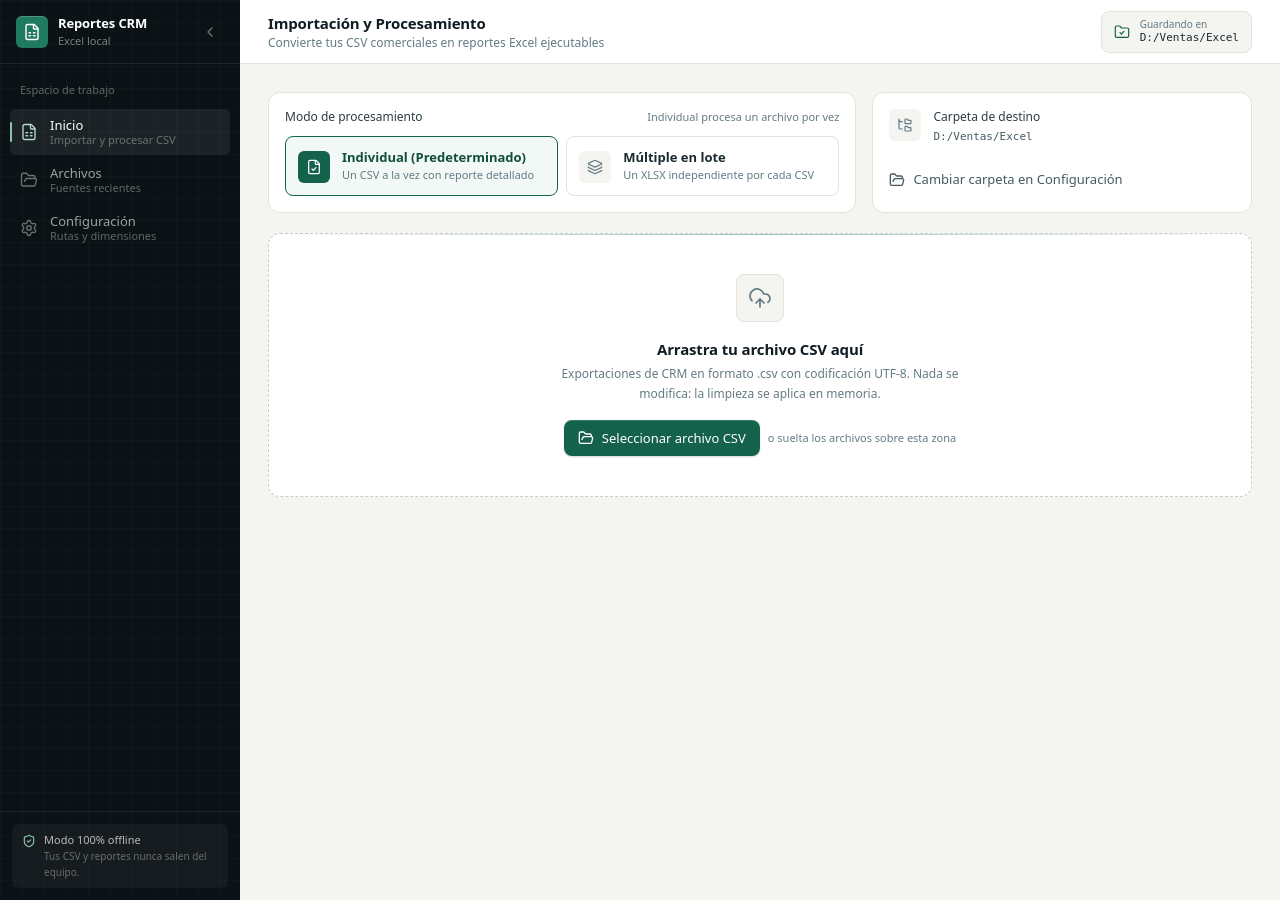
Test: App Flow & Persistence › allows navigating between sections and updating folder in settings
Expected: the heading "Importación y Procesamiento" is shown, [268,13,486,33]
// Navigate to Configuración via sidebar
Click the button "Configuración Rutas y dimensiones" at point(120, 228), box [10,204,230,250]
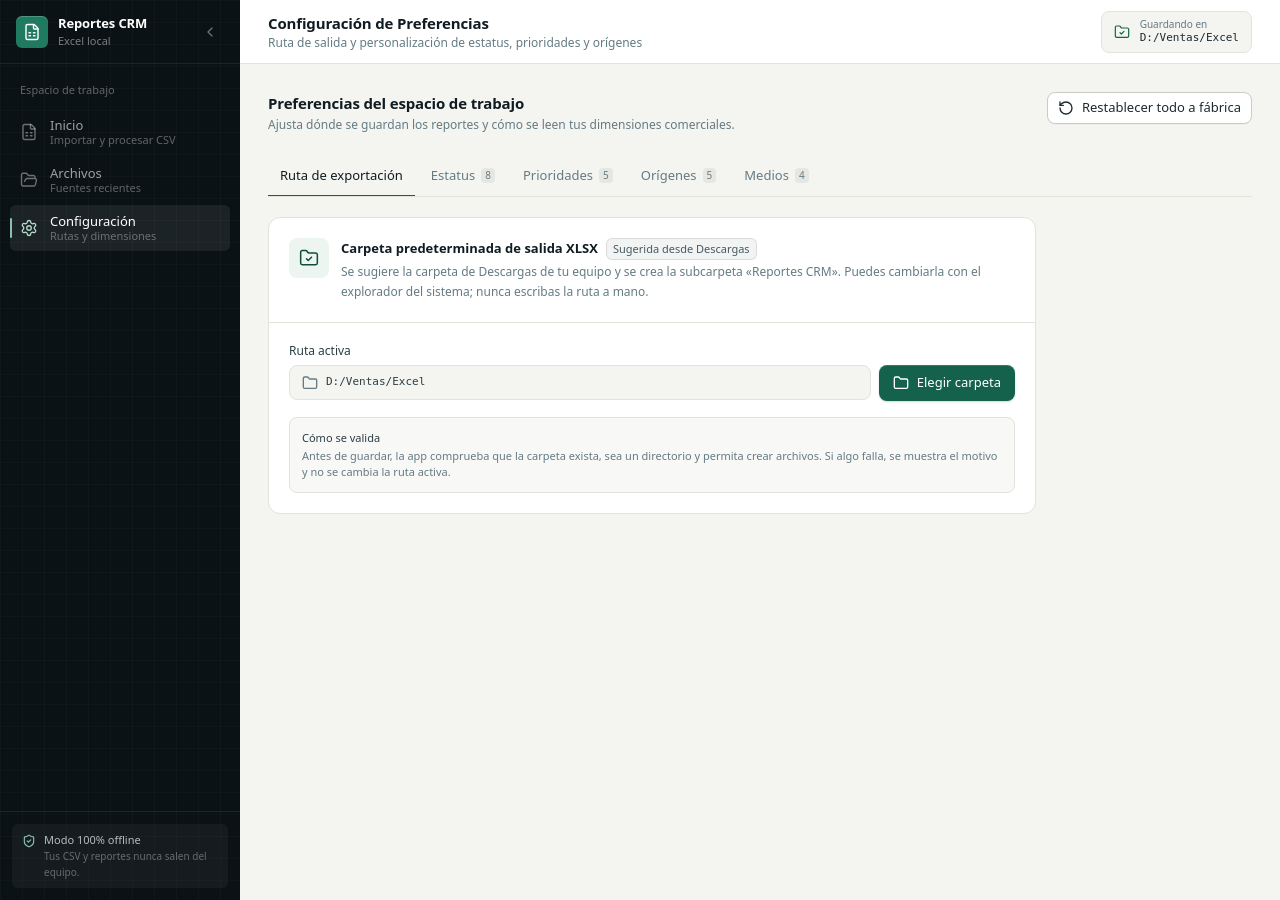
Result: the heading "Configuración de Preferencias" is shown at [268,13,489,33]
// Navigate to Archivos via sidebar
Click the button "Archivos Fuentes recientes" at point(120, 180), box [10,156,230,202]
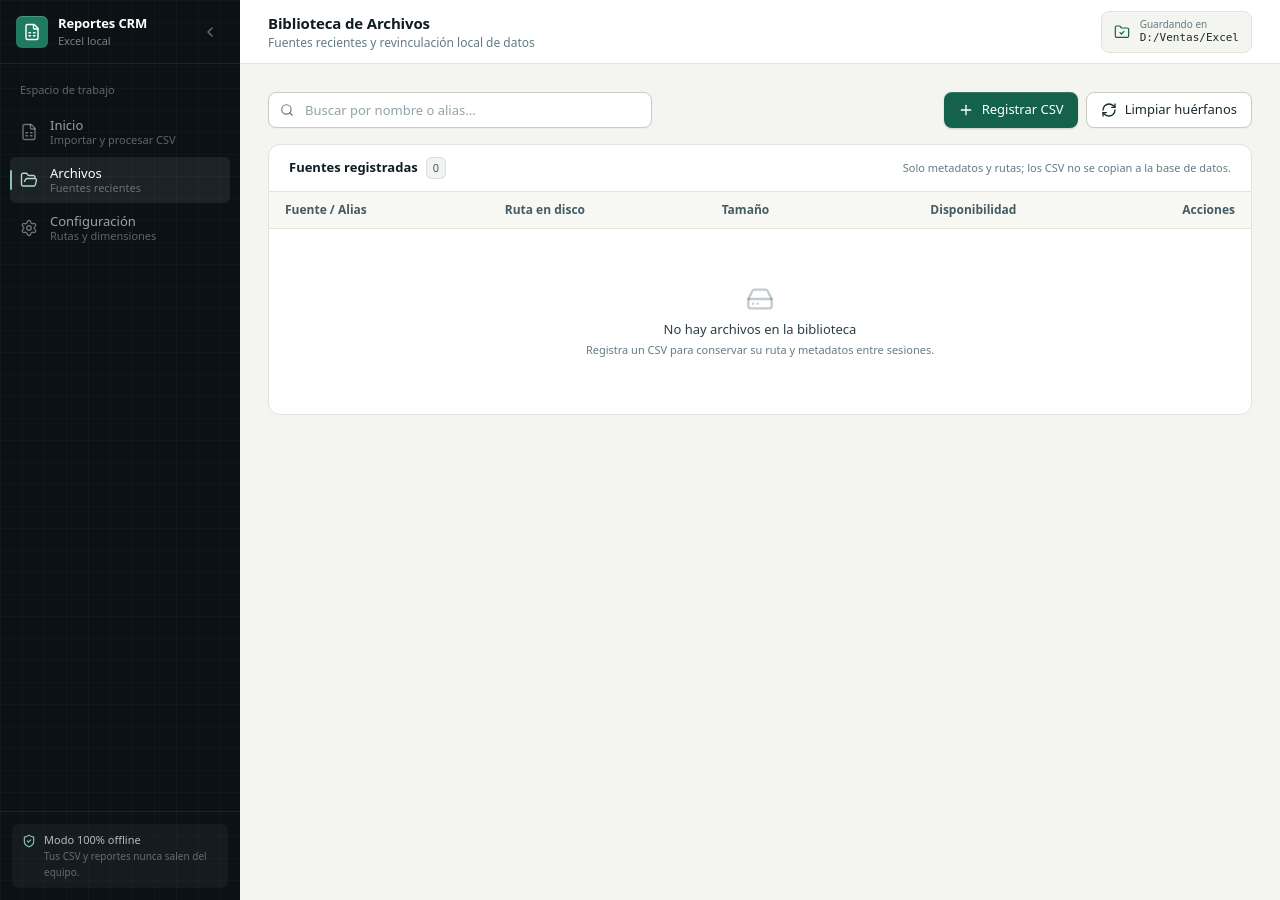
Result: the heading "Biblioteca de Archivos" is shown at [268,13,430,33]
